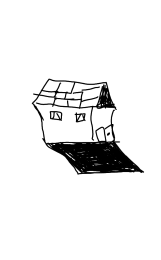door: (93, 121, 116, 146)
open_window: (47, 110, 63, 123), (74, 111, 88, 125)
roof: (32, 77, 119, 114)
shadow: (43, 136, 147, 178)
small_house: (3, 2, 161, 260)
wall: (32, 99, 96, 147)
